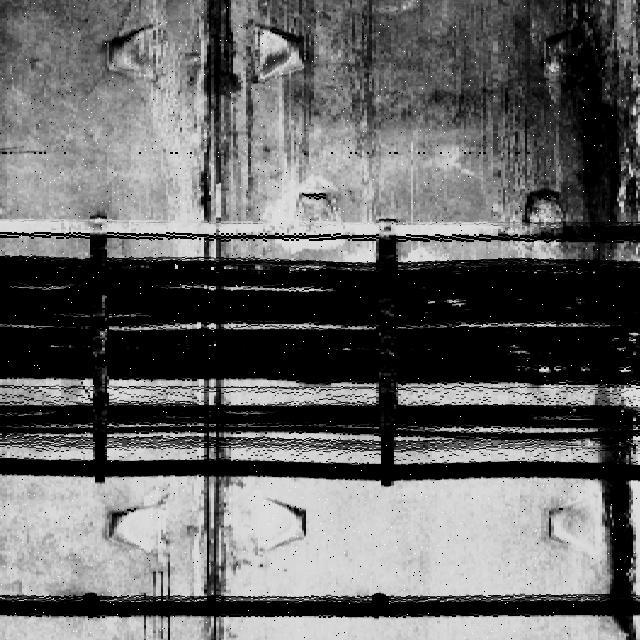leakage: (504, 0, 640, 262), (186, 0, 256, 226), (597, 390, 640, 637)
